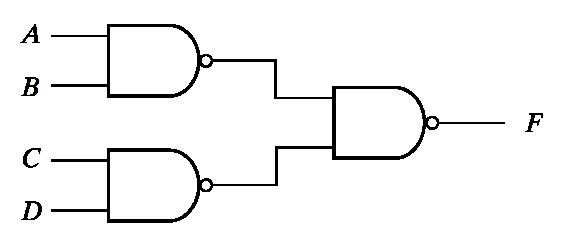nand: (327, 82, 444, 164), (103, 19, 217, 103), (103, 143, 217, 226)
